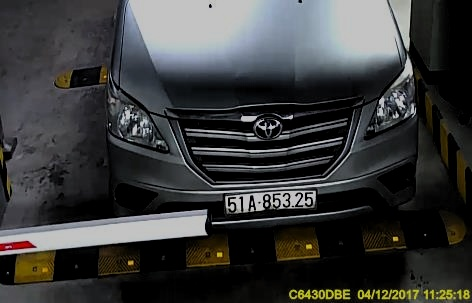plate: (225, 184, 320, 215)
